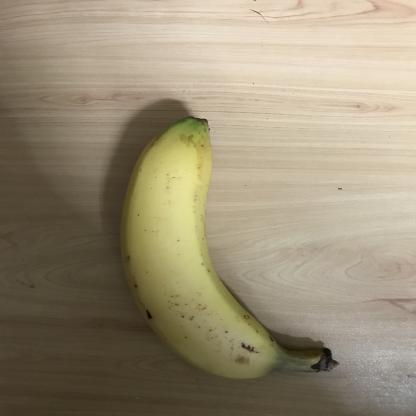banana: (123, 114, 336, 384)
